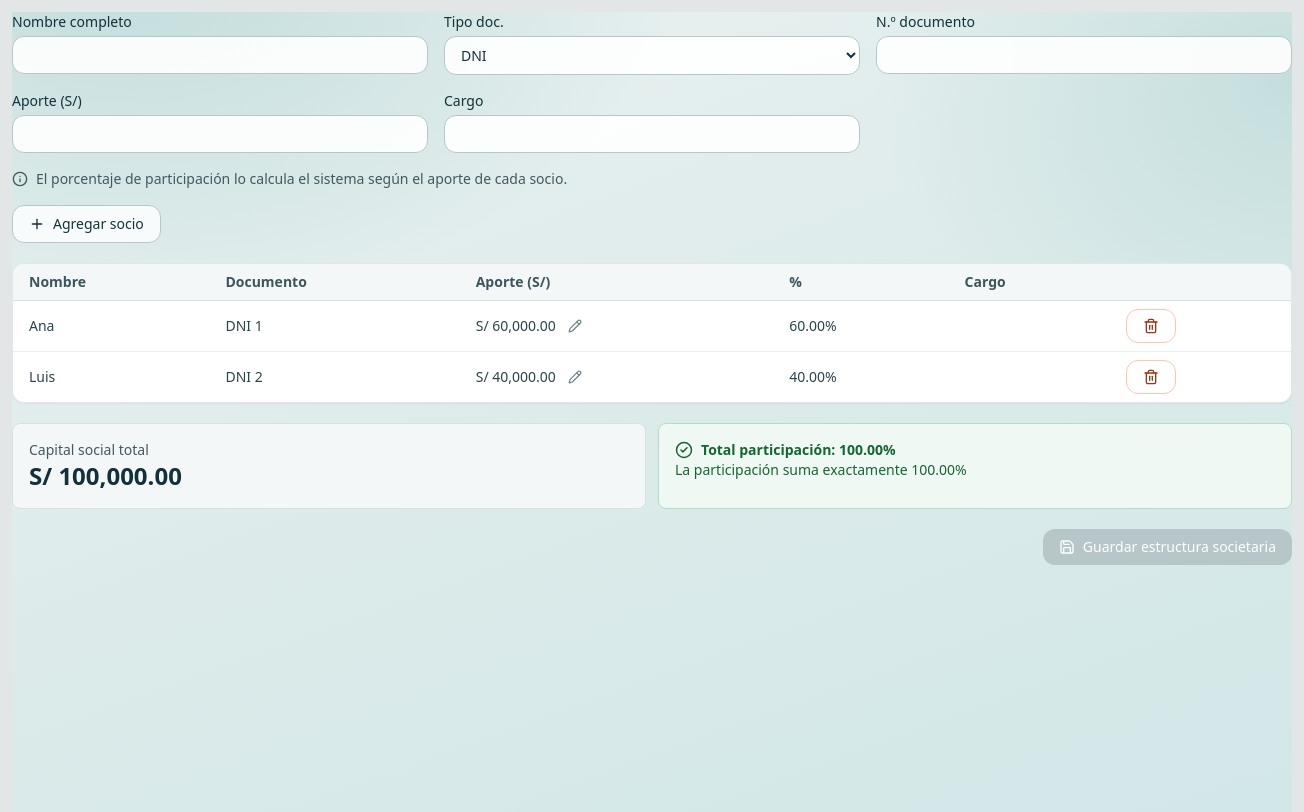
Test: Socios · el porcentaje lo calcula el sistema (HU-02) › al editar un aporte se muestran los porcentajes recalculados de todos los socios
Expected: the text "Ana" is shown, [13,300,210,352]
Step 1. Click the button named "Editar aporte de Ana" → (575, 326), box [564,315,586,337]
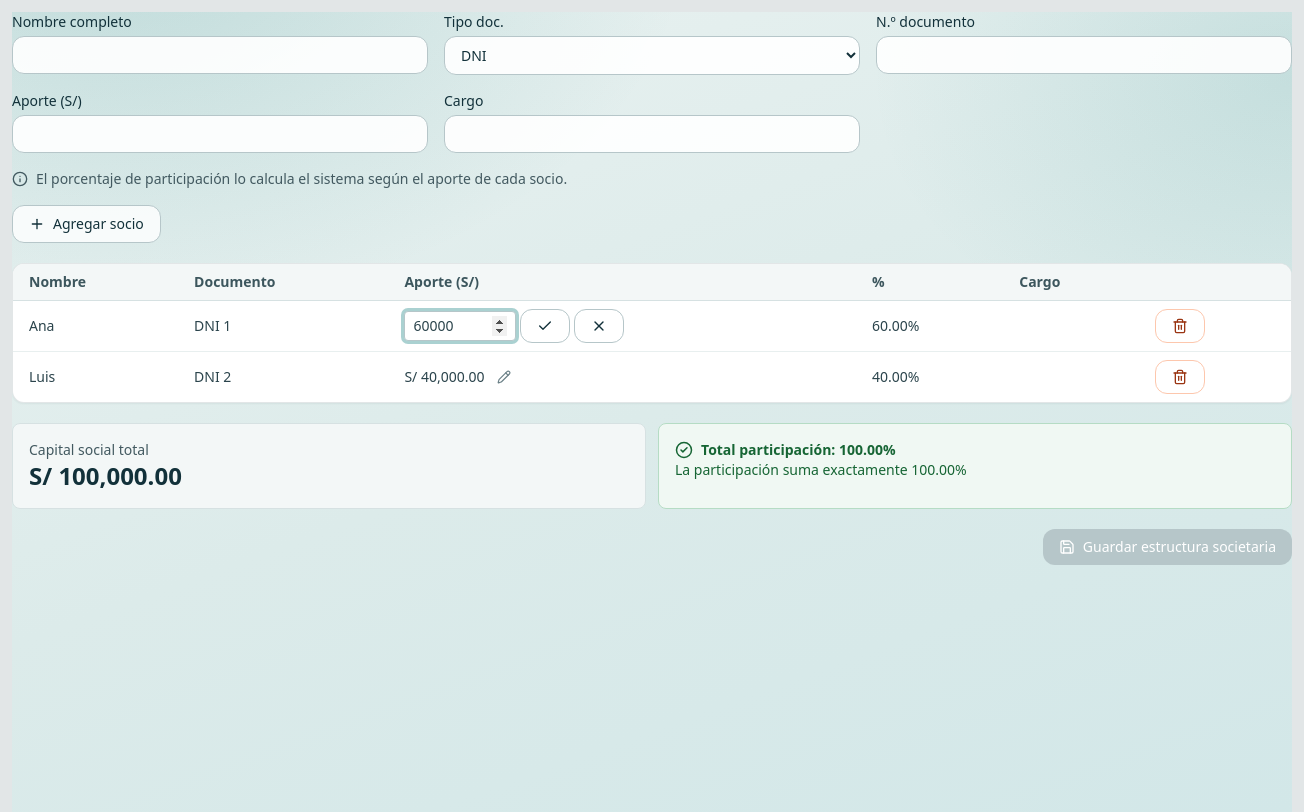
Step 2. Replace the text in the number field named "Nuevo aporte" with "75000" → (460, 326), box [404,311,516,341]
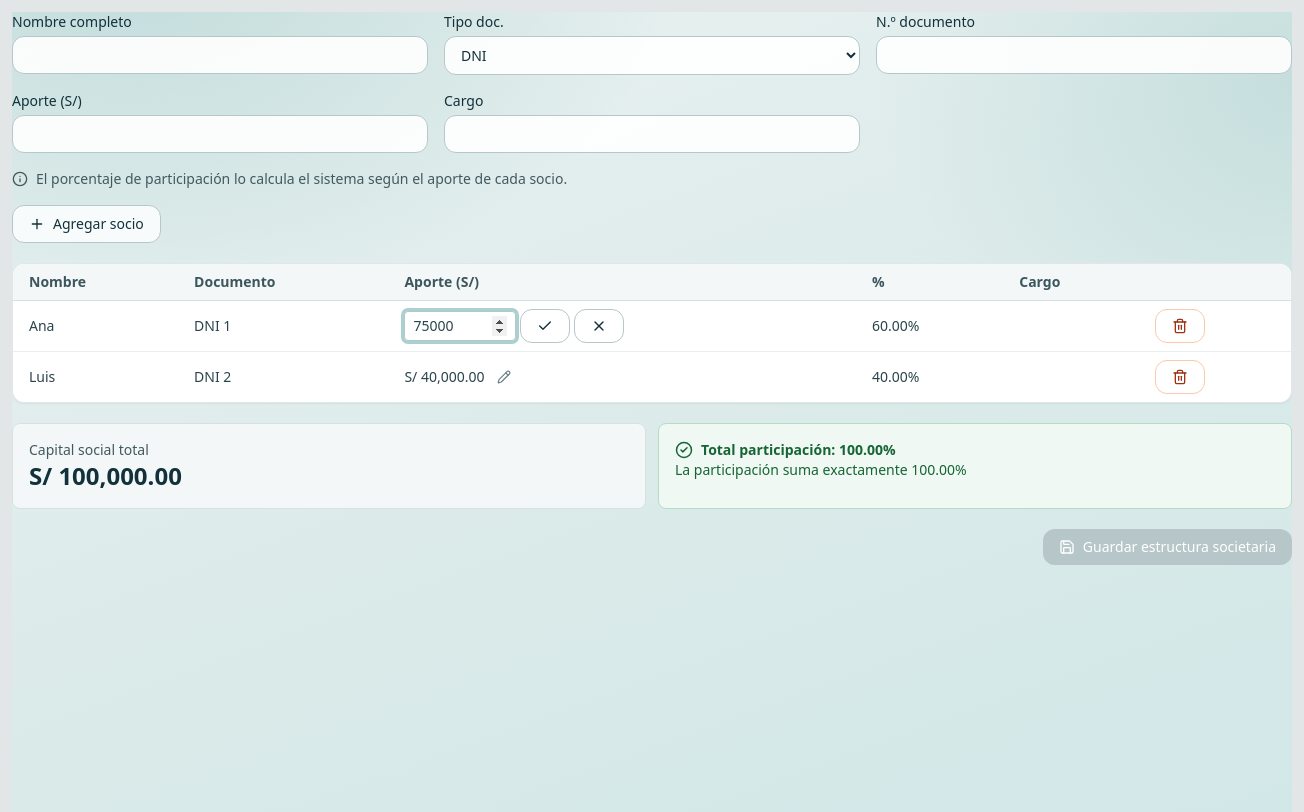
Step 3. Click the button named "Guardar aporte" → (545, 326), box [520,309,570,343]
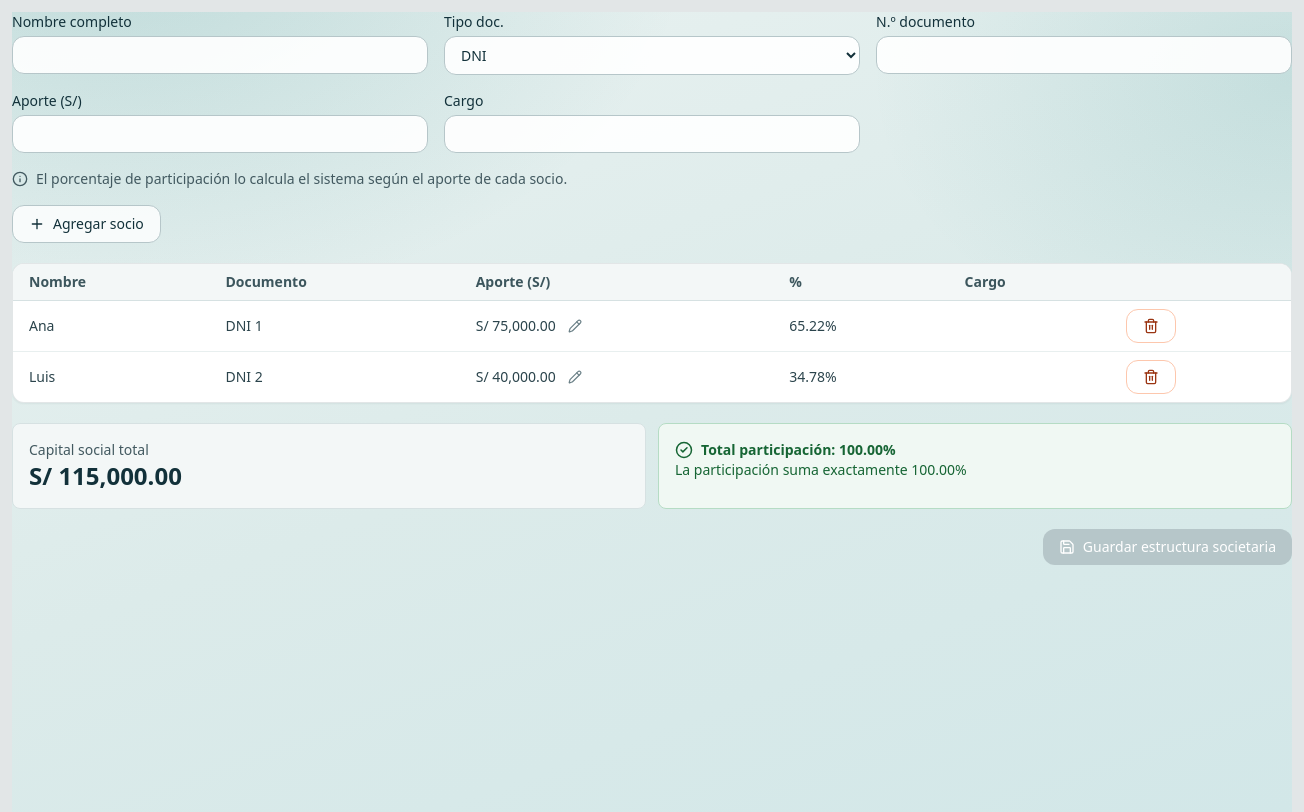
Now the text "65.22%" is shown, box [773,300,949,352]
Now the text "34.78%" is shown, box [773,352,949,402]
